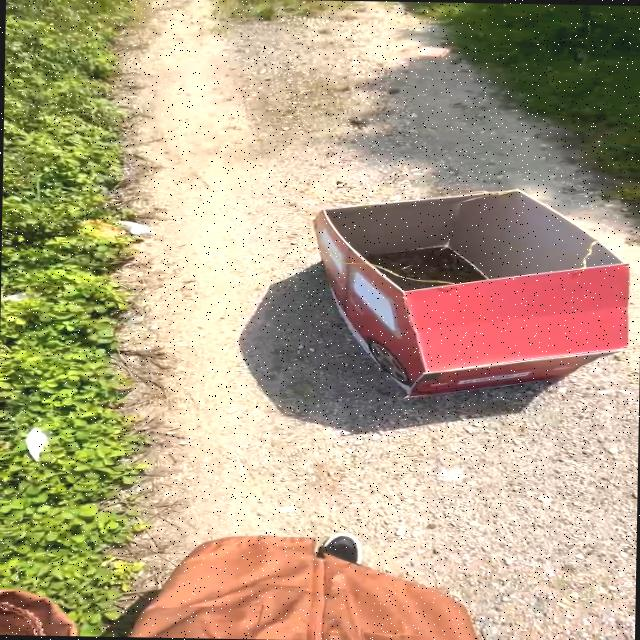red_car: (265, 179, 640, 411)
